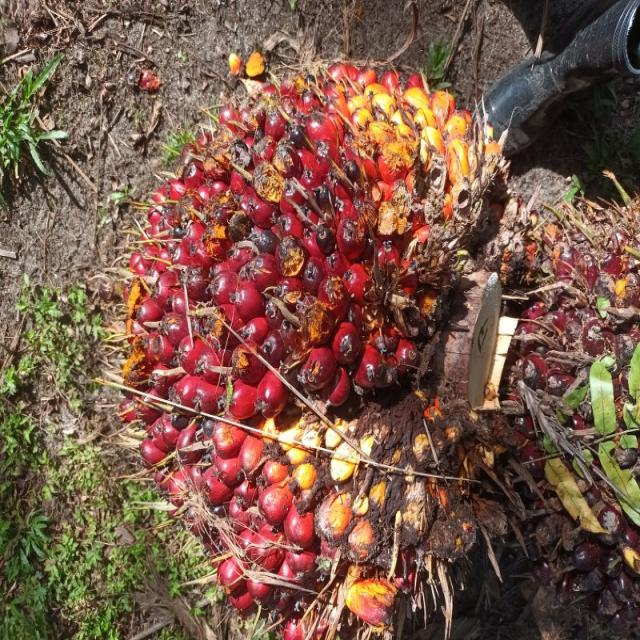fraksi 3: (140, 18, 540, 611)
